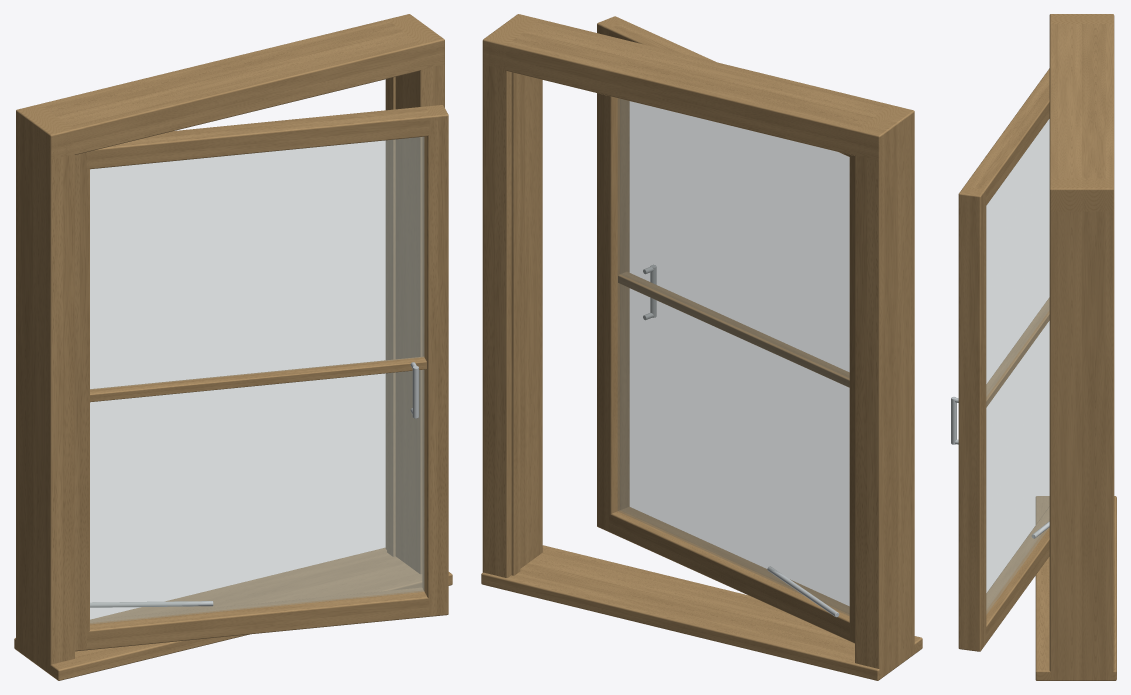
Rendered from casement-window.glb.
3 views of the same model, side by side, from view 1: azimuth 30°, elevation 25°; view 2: azimuth 150°, elevation 25°; view 3: azimuth 270°, elevation 25° (orthographic). The views are drawn at different scales.
Parts seen in each view (by area): view 1: Sash | glass pane, Frame | jamb, Frame | header, Frame | jamb.001, Sash | stile.001, Sash | crossrail, Frame | sill, Sash | crossrail.001, Sash | stile, Sash | glazing crossbar, Frame | door stop.001, Casement | opening stay; view 2: Sash | glass pane, Frame | jamb, Frame | jamb.001, Frame | header, Frame | sill, Sash | stile.001, Sash | crossrail, Frame | door stop.001, Sash | glazing crossbar, Sash | stile, Sash | crossrail.001; view 3: Frame | jamb.001, Sash | glass pane, Sash | stile.001, Frame | header, Sash | crossrail.001, Sash | crossrail, Frame | sill, Sash | glazing crossbar, Frame | jamb, Casement | latch | grip.
Part boxes in pixels (<box>): Sash | glass pane: <box>90,137,424,623</box>; Frame | jamb: <box>16,104,74,674</box>; Frame | header: <box>16,19,444,159</box>; Frame | jamb.001: <box>385,14,444,573</box>; Sash | stile.001: <box>422,105,448,616</box>; Sash | crossrail: <box>87,587,430,650</box>; Frame | sill: <box>14,548,452,680</box>; Sash | crossrail.001: <box>87,106,430,169</box>; Sash | stile: <box>75,152,89,651</box>; Sash | glazing crossbar: <box>90,356,426,402</box>; Frame | door stop.001: <box>387,77,395,556</box>; Casement | opening stay: <box>90,601,213,607</box>; Sash | glass pane: <box>618,98,849,615</box>; Frame | jamb: <box>855,105,914,678</box>; Frame | jamb.001: <box>482,14,542,577</box>; Frame | header: <box>483,19,914,160</box>; Frame | sill: <box>481,545,922,680</box>; Sash | stile.001: <box>597,16,629,531</box>; Sash | crossrail: <box>609,506,851,641</box>; Frame | door stop.001: <box>511,72,520,575</box>; Sash | glazing crossbar: <box>618,272,849,387</box>; Sash | stile: <box>849,155,854,643</box>; Sash | crossrail.001: <box>609,21,851,156</box>; Frame | jamb.001: <box>1049,178,1114,680</box>; Sash | glass pane: <box>986,119,1049,613</box>; Sash | stile.001: <box>958,187,986,651</box>; Frame | header: <box>1049,14,1114,211</box>; Sash | crossrail.001: <box>964,68,1049,205</box>; Sash | crossrail: <box>985,506,1049,643</box>; Frame | sill: <box>1035,496,1116,680</box>; Sash | glazing crossbar: <box>986,297,1049,407</box>; Frame | jamb: <box>1050,14,1113,23</box>; Casement | latch | grip: <box>951,397,956,444</box>.
Size of the model in its own units: 0.868 by 1.14 by 0.3464.
4 materials, 4 textured.
